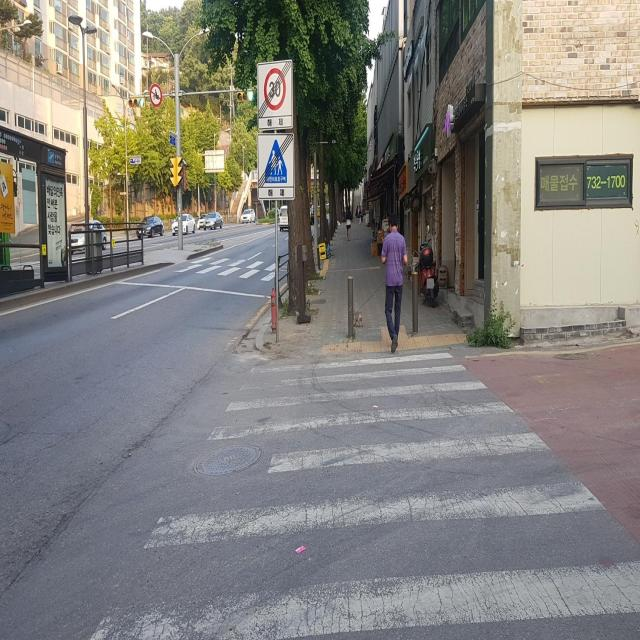횡단보도: (87, 345, 640, 640), (174, 254, 287, 286)
